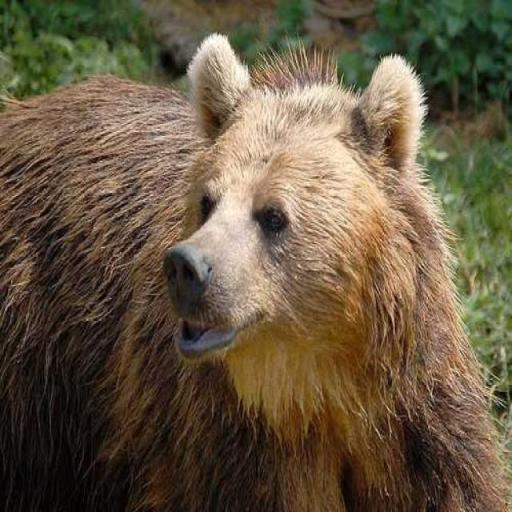Bear: (0, 32, 511, 510)
